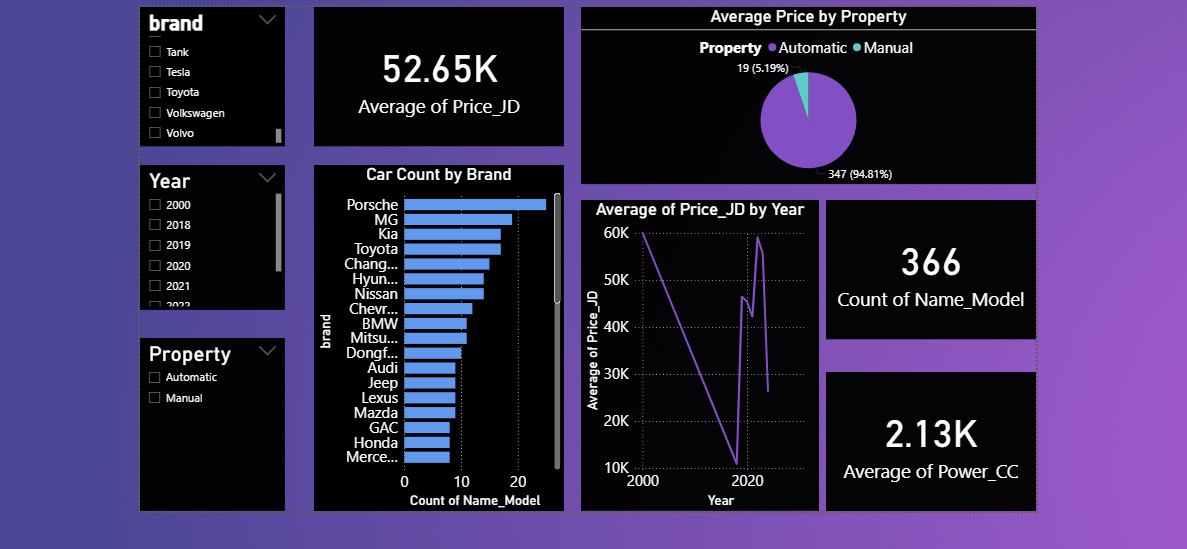

This screenshot's page, from the dashboard's own definition file:
{"tool":"powerbi","page":{"name":"Page 1","canvas":[1280,720],"ordinal":0},"visuals":[{"type":"slicer","title":"brand","fields":{"Values":["Sheet1.Prand"]},"box":[0,0,207.1,198.6],"z":0},{"type":"slicer","fields":{"Values":["Sheet1.Year"]},"box":[0,225.7,207.1,207.1],"z":1000},{"type":"slicer","fields":{"Values":["Sheet1.Property"]},"box":[0,472.9,207.1,247.1],"z":2000},{"type":"card","fields":{"Values":["Avg(Sheet1.Price_JD)","select"]},"box":[248.6,0,357.1,198.6],"z":3000},{"type":"card","fields":{"Values":["CountNonNull(Sheet1.Name_Model)"]},"box":[980,275.7,300,198.6],"z":4000},{"type":"card","fields":{"Values":["Avg(Sheet1.Power_CC)"]},"box":[980,521.4,300,198.6],"z":5000},{"type":"barChart","title":"Car Count by Brand","fields":{"Category":["Sheet1.Prand"],"Y":["CountNonNull(Sheet1.Name_Model)"]},"box":[248.3,225,356.7,495],"z":6000},{"type":"lineChart","fields":{"Category":["Sheet1.Year"],"Y":["Avg(Sheet1.Price_JD)"]},"box":[630,275.7,340,444.3],"z":7000},{"type":"pieChart","title":"Average Price by Property","fields":{"Category":["Sheet1.Property"],"Y":["CountNonNull(Sheet1.Price_JD)"]},"box":[630,0,650,252.9],"z":8000}]}

Visuals, with their boxes on the page's 1280x720 design canvas (x1, y1, x2, y2). These are canvas units, not pixel positions in the 1187x549 screenshot, which may show the page scaled, cropped or inside an application window:
"brand" slicer: detection(0, 0, 207, 199)
slicer - Sheet1.Year: detection(0, 226, 207, 433)
slicer - Sheet1.Property: detection(0, 473, 207, 720)
card - Avg(Sheet1.Price_JD) x select: detection(249, 0, 606, 199)
card - CountNonNull(Sheet1.Name_Model): detection(980, 276, 1280, 474)
card - Avg(Sheet1.Power_CC): detection(980, 521, 1280, 720)
"Car Count by Brand" barChart: detection(248, 225, 605, 720)
lineChart - Sheet1.Year x Avg(Sheet1.Price_JD): detection(630, 276, 970, 720)
"Average Price by Property" pieChart: detection(630, 0, 1280, 253)
